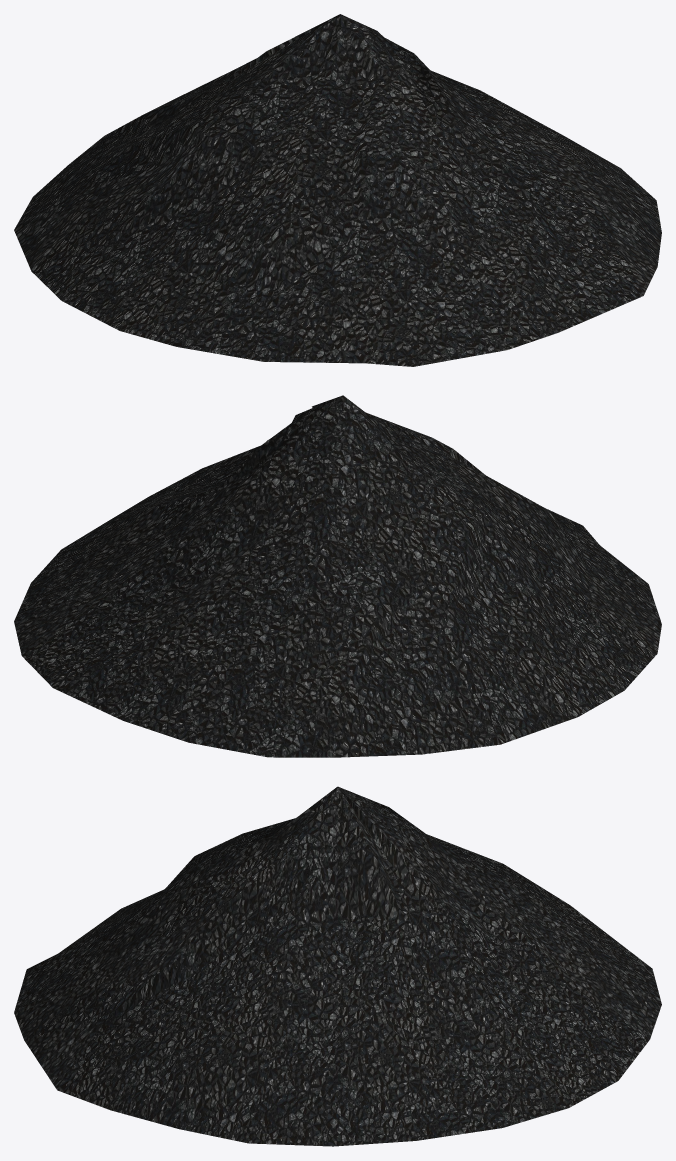
File: carbon monton.FBX
3 renders of one model, top to bottom at view 1: azimuth 30°, elevation 25°; view 2: azimuth 150°, elevation 25°; view 3: azimuth 270°, elevation 25°, orthographic. The views are drawn at different scales.
Visible parts, largest first — view 1: Cone001; view 2: Cone001; view 3: Cone001.
Part boxes in pixels (x1=…): Cone001: x1=14, y1=14, x2=661, y2=366; Cone001: x1=14, y1=395, x2=661, y2=757; Cone001: x1=14, y1=786, x2=661, y2=1146.
Bounding box in the file's own units: 158 × 59.78 × 158.
